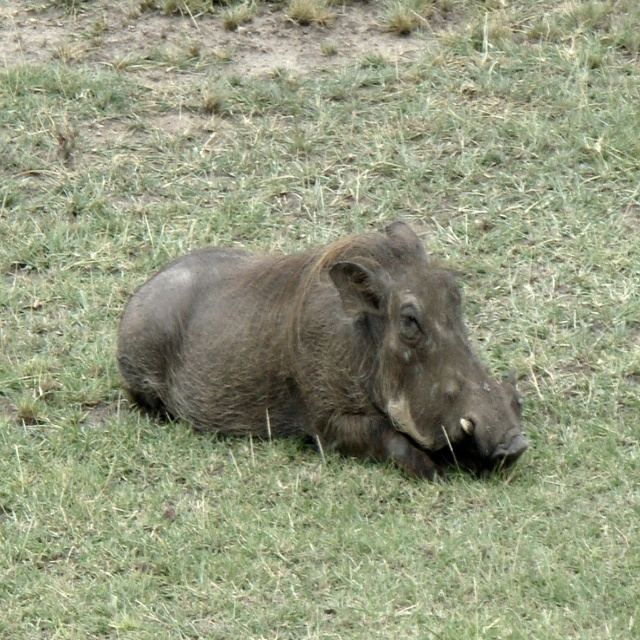Pig: (114, 221, 529, 482)
